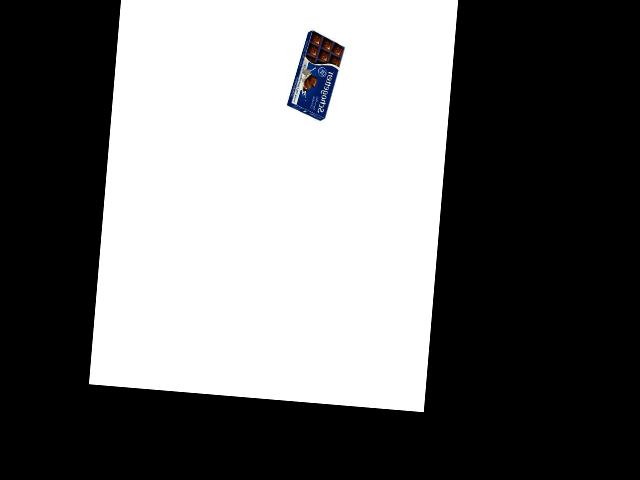chocolate: (293, 28, 346, 124)
